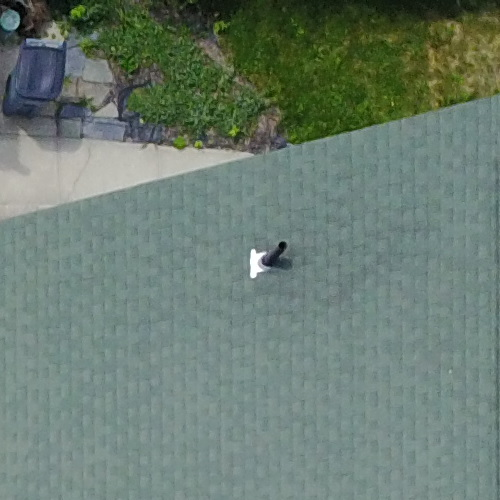container: (1, 9, 29, 38)
trash bin: (1, 25, 86, 131)
